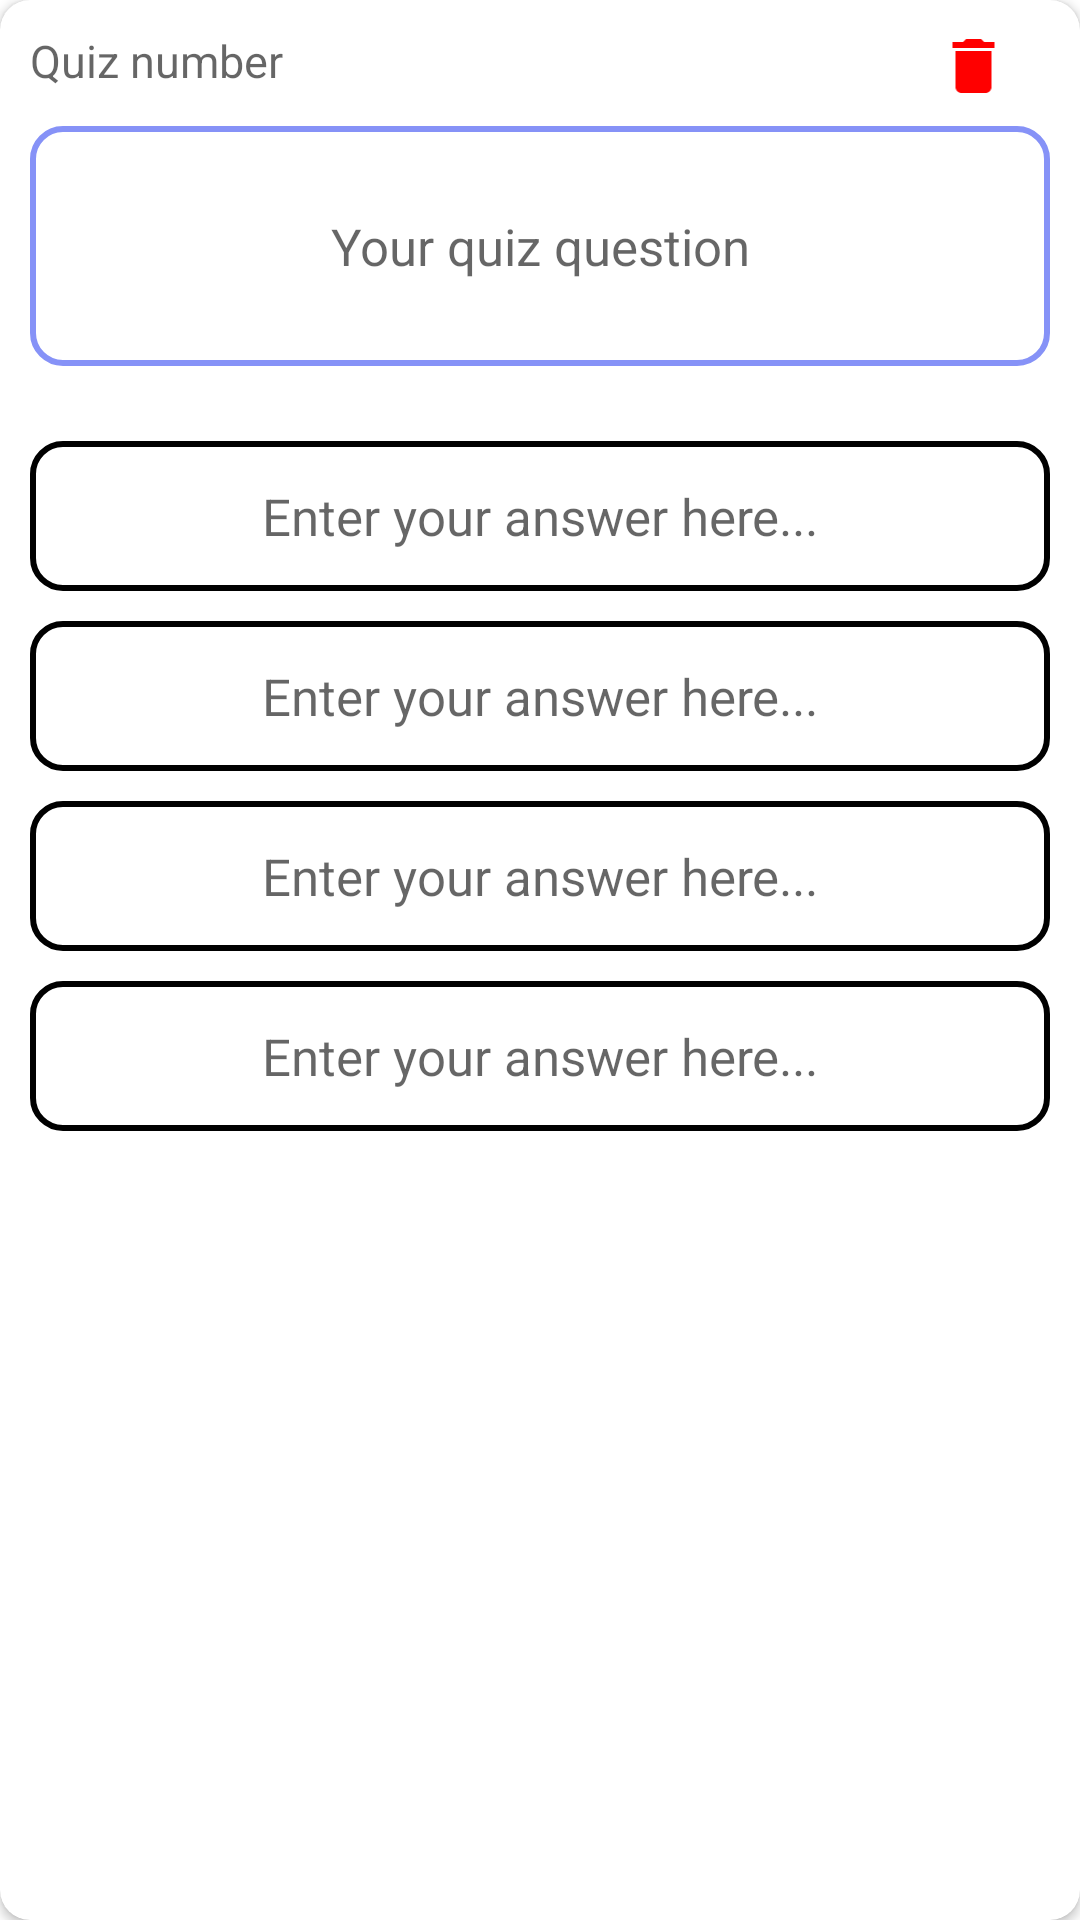

Icons on this 1080 × 1920 Android screen, each with its box as BBox(x1, y1, x2, y2):
delete: BBox(952, 39, 995, 93)
